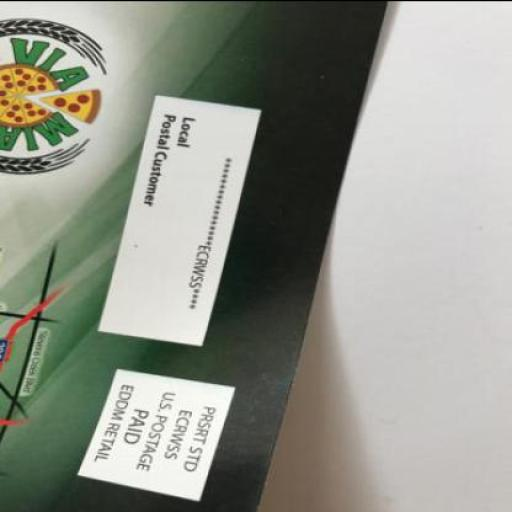paper: (1, 1, 390, 511)
